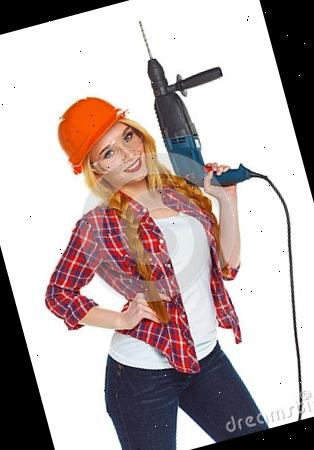helmet: (46, 84, 143, 175)
no_wear: (82, 183, 240, 379)
